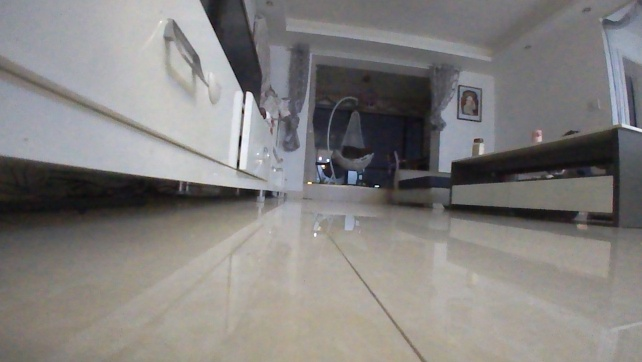TV_stand: (0, 0, 292, 205)
sofa1: (388, 168, 453, 211)
tea_table: (446, 120, 641, 229)
